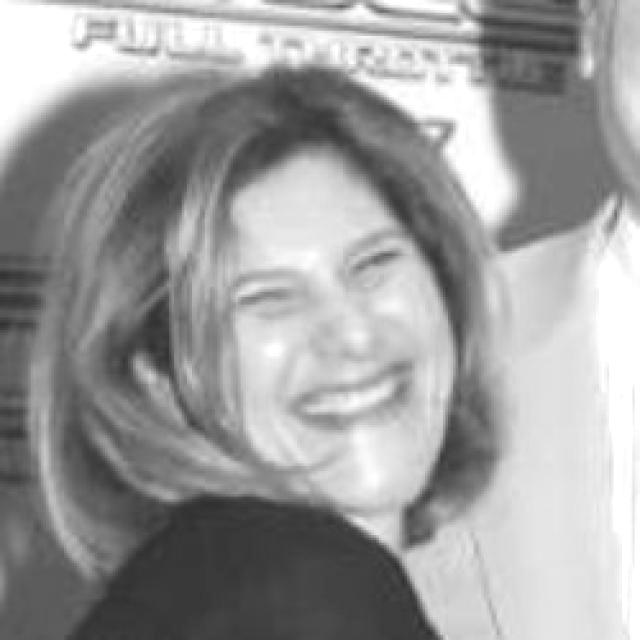real: (206, 147, 462, 515), (226, 242, 410, 318)
